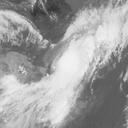cyclone: (29, 54, 79, 97)
